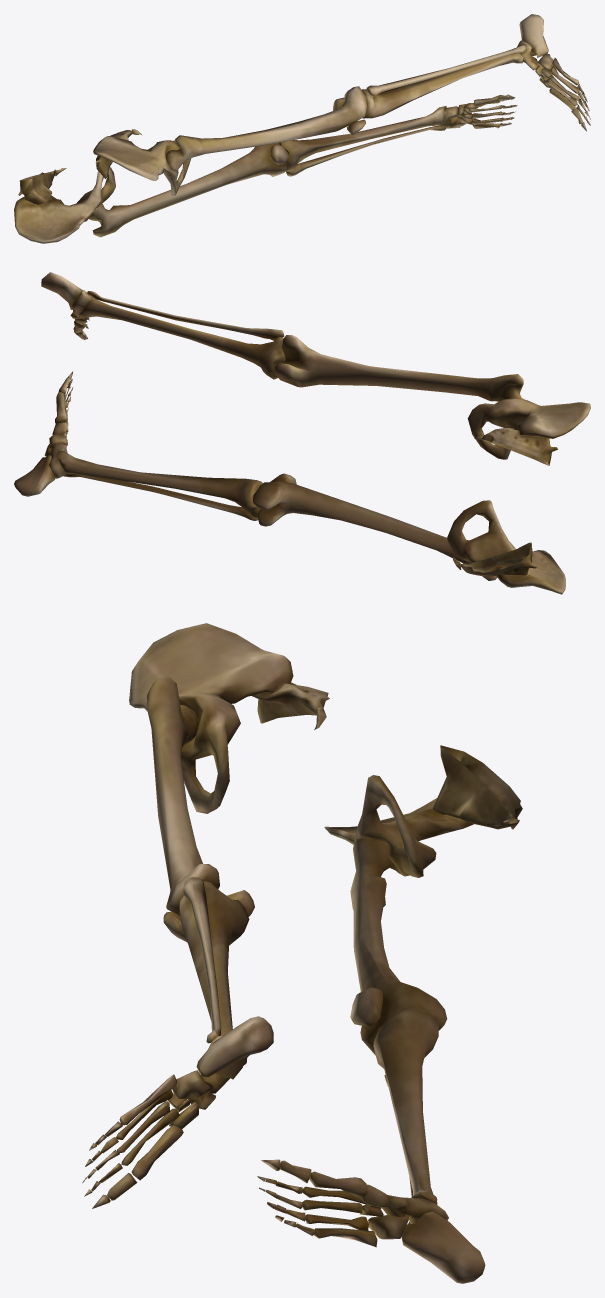
The picture shows the model from 3 angles, top to bottom: view 1: azimuth 30°, elevation 25°; view 2: azimuth 150°, elevation 25°; view 3: azimuth 270°, elevation 25°; orthographic projection. The views are drawn at different scales.
Parts seen in each view (by area): view 1: skeleton.2; view 2: skeleton.2; view 3: skeleton.2.
Part boxes in pixels (x1,y1,x2,y2): skeleton.2: [14, 14, 590, 243]; skeleton.2: [14, 272, 590, 594]; skeleton.2: [82, 623, 522, 1283].
Size of the model in its own units: 1.66 by 0.4667 by 0.6455.
1 material, 1 textured.
